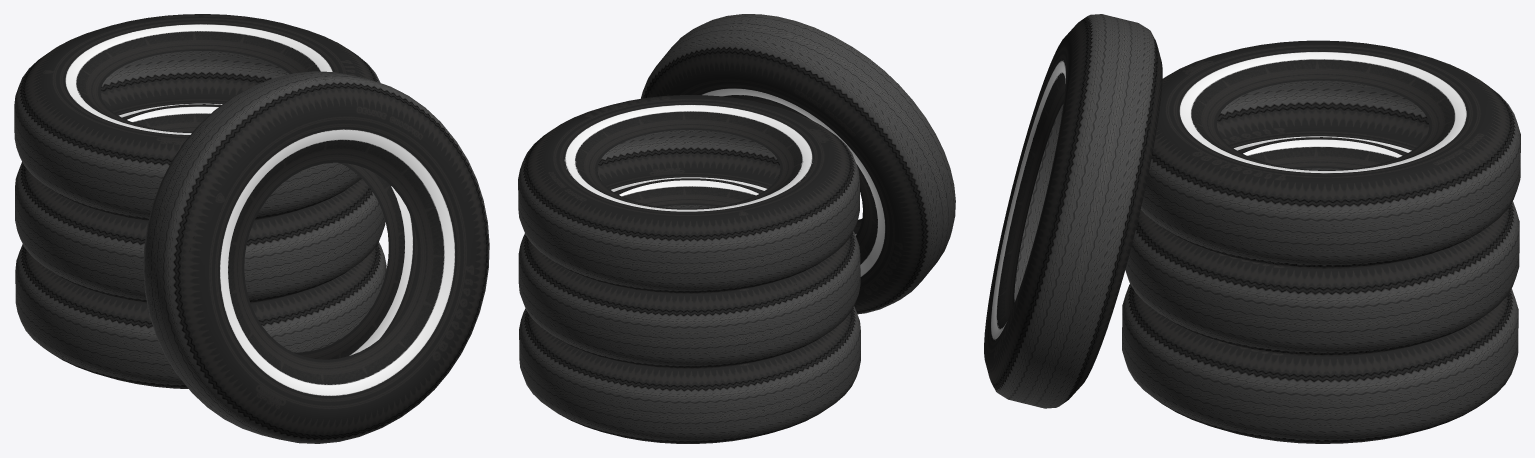
The model's file is tyre Set.FBX.
3 views of the same model, side by side, from view 1: azimuth 30°, elevation 25°; view 2: azimuth 150°, elevation 25°; view 3: azimuth 270°, elevation 25° (orthographic). The views are drawn at different scales.
Visible parts, largest first — view 1: mid003, mid002, mid001, mid; view 2: mid002, mid003, mid001, mid; view 3: mid002, mid003, mid001, mid.
Boxes of the visible parts, x1,y1,x2,y2 form: mid003: [143, 71, 489, 443]; mid002: [14, 14, 380, 221]; mid001: [15, 106, 385, 303]; mid: [15, 242, 386, 388]; mid002: [518, 95, 859, 293]; mid003: [641, 14, 955, 314]; mid001: [518, 180, 860, 368]; mid: [519, 306, 860, 443]; mid002: [1140, 40, 1520, 268]; mid003: [984, 14, 1162, 408]; mid001: [1125, 139, 1519, 356]; mid: [1122, 284, 1518, 443].
Bounding box in the file's own units: 28.4 × 28.07 × 38.41.
Materials: 1 (1 with a texture image).
